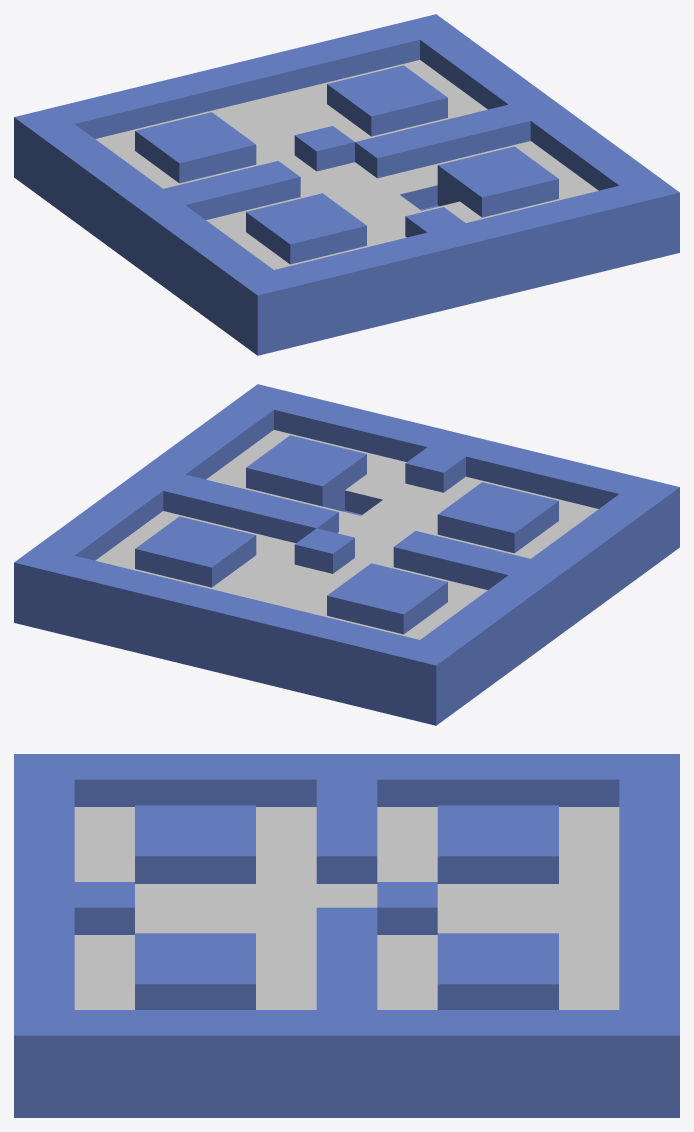
File: 049_platform.fbx
3 views of the same model, one above another, from view 1: azimuth 30°, elevation 25°; view 2: azimuth 150°, elevation 25°; view 3: azimuth 270°, elevation 25° (orthographic). The views are drawn at different scales.
Parts seen in each view (by area): view 1: Cube; view 2: Cube; view 3: Cube.
Boxes of the visible parts, x1,y1,x2,y2 form: Cube: [14, 14, 679, 355]; Cube: [14, 384, 679, 725]; Cube: [14, 754, 679, 1117].
Size of the model in its own units: 1100 by 150 by 1100.
